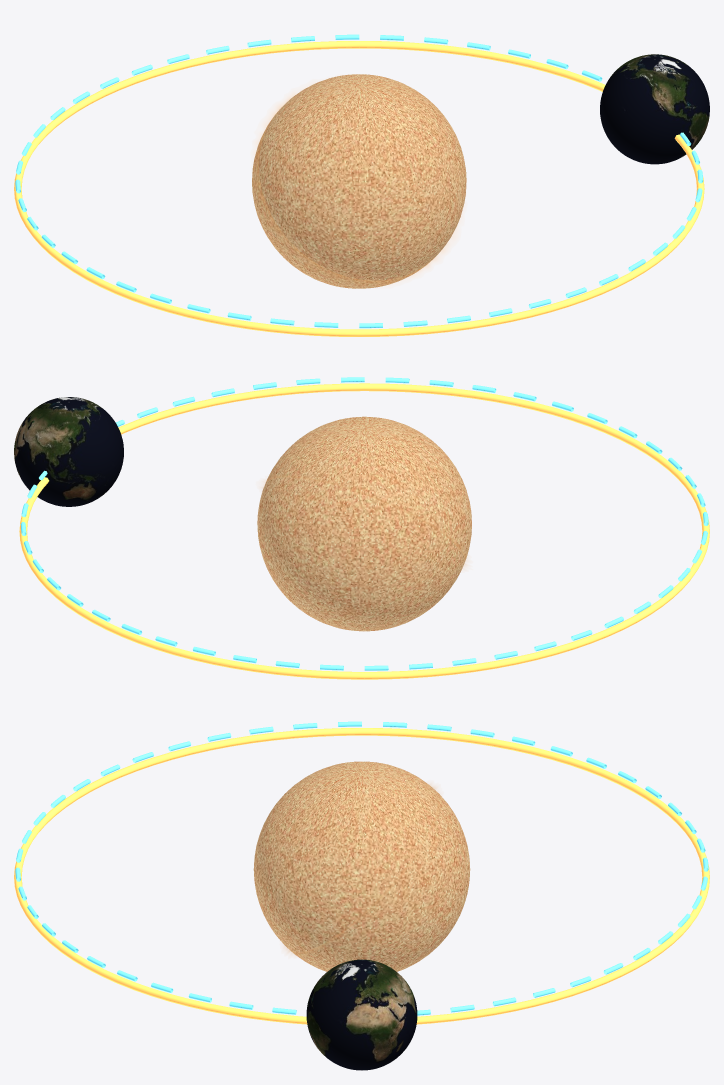
File: orbit.glb
3 renders of one model, top to bottom at view 1: azimuth 30°, elevation 25°; view 2: azimuth 150°, elevation 25°; view 3: azimuth 270°, elevation 25°, orthographic.
Visible parts, largest first — view 1: Sol, Measure, Planet, Calibração em ciano; view 2: Sol, Measure, Planet, Calibração em ciano; view 3: Sol, Measure, Planet, Calibração em ciano.
Part boxes in pixels (box(x1,y1,x2,y2)): Sol: box(252, 74, 466, 288); Measure: box(14, 41, 704, 336); Planet: box(600, 54, 709, 164); Calibração em ciano: box(15, 34, 703, 328); Sol: box(257, 416, 471, 631); Measure: box(19, 383, 709, 679); Planet: box(14, 397, 123, 506); Calibração em ciano: box(20, 377, 708, 670); Sol: box(253, 761, 470, 971); Measure: box(14, 728, 709, 1024); Planet: box(306, 959, 417, 1070); Calibração em ciano: box(15, 721, 708, 1015).
Bounding box in the file's own units: 2.69 × 0.78 × 2.51.
Materials: 5 (3 with a texture image).
